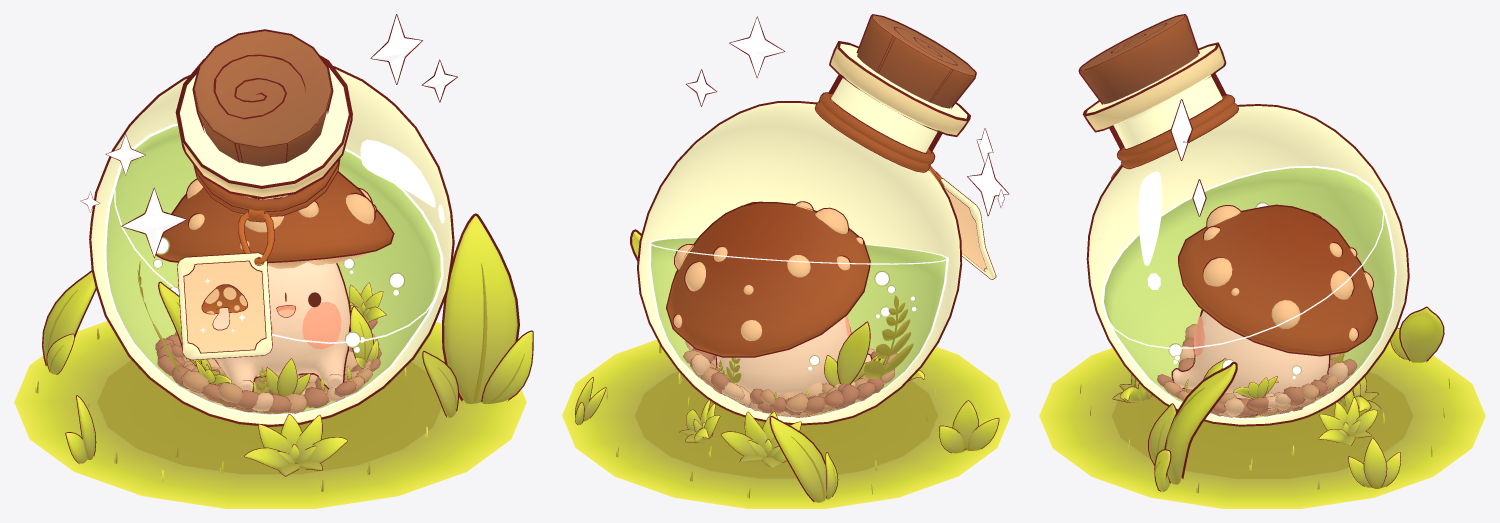
The model's file is mushroom_potion.glb.
3 renders of one model, left to right at view 1: azimuth 30°, elevation 25°; view 2: azimuth 150°, elevation 25°; view 3: azimuth 270°, elevation 25°, orthographic. The views are drawn at different scales.
Visible parts, largest first — view 1: Bottle, Base_2, Mushroom_2, Star; view 2: Bottle, Base_2, Mushroom_2, Star; view 3: Bottle, Base_2, Mushroom_2, Star.
Part boxes in pixels (x1,y1,x2,y2): Bottle: (89, 29, 454, 426); Base_2: (14, 213, 533, 508); Mushroom_2: (156, 171, 394, 391); Star: (80, 14, 457, 258); Bottle: (637, 14, 996, 425); Base_2: (562, 229, 1010, 508); Mushroom_2: (666, 201, 872, 396); Star: (686, 16, 1008, 215); Bottle: (1078, 14, 1409, 426); Base_2: (1039, 306, 1485, 508); Mushroom_2: (1171, 204, 1378, 399); Star: (1170, 99, 1206, 216).
Size of the model in its own units: 8.06 by 7.52 by 8.08.
1 material, 1 textured.
